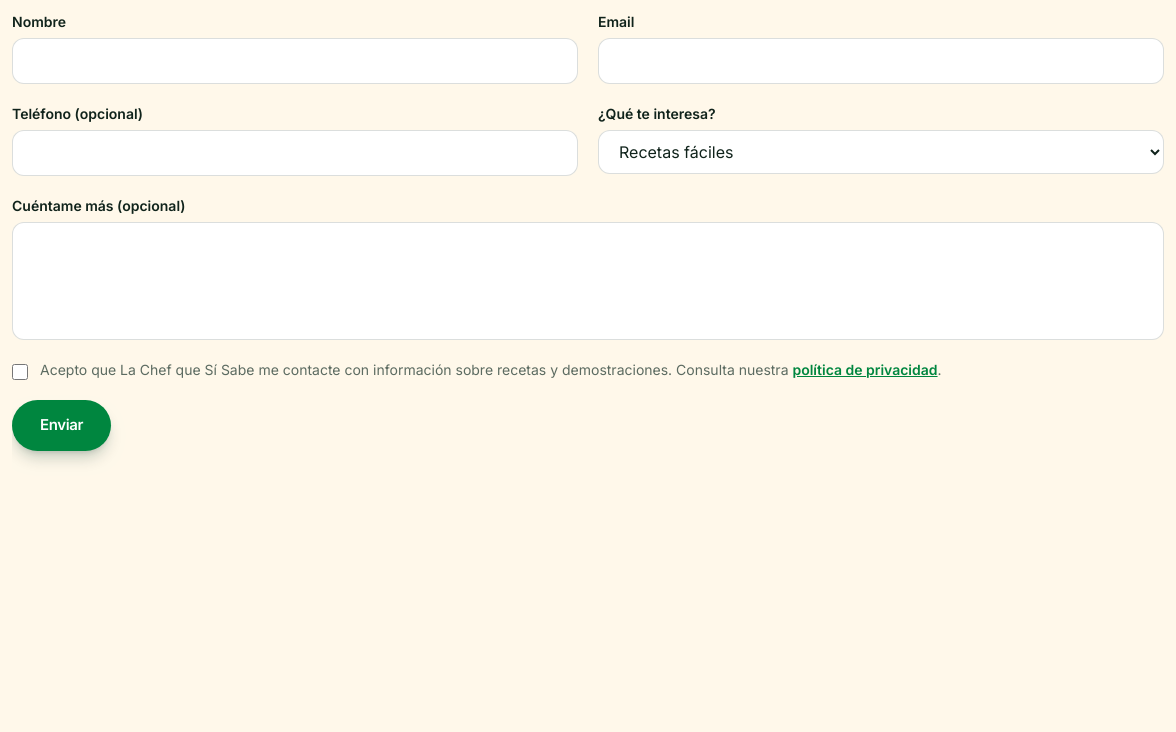
Scenario: LeadForm › muestra errores de validación si se envía vacío
Click the button "Enviar": (62, 425) [12,400,111,450]
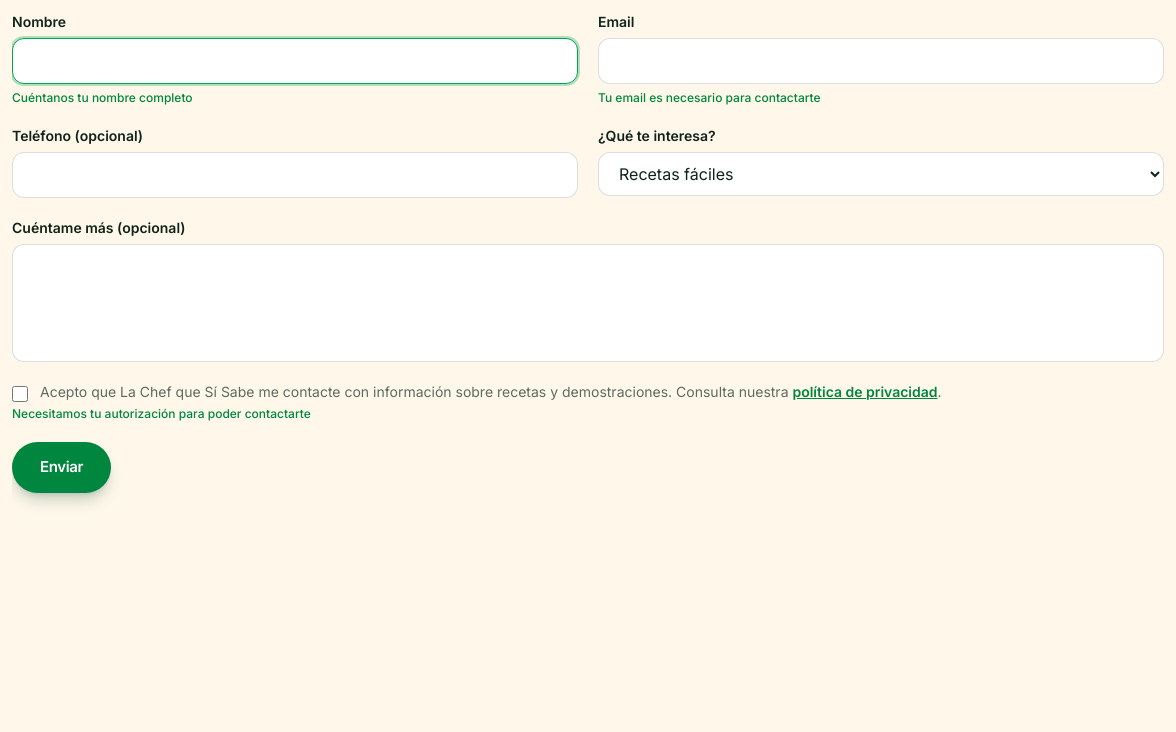
Expected: the text "Cuéntanos tu nombre completo" is shown, [12,90,193,105]
